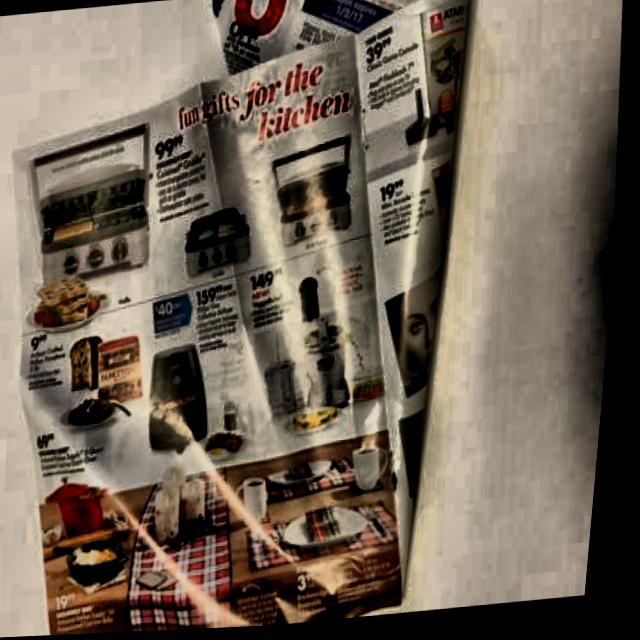Paper: (0, 0, 518, 639)
